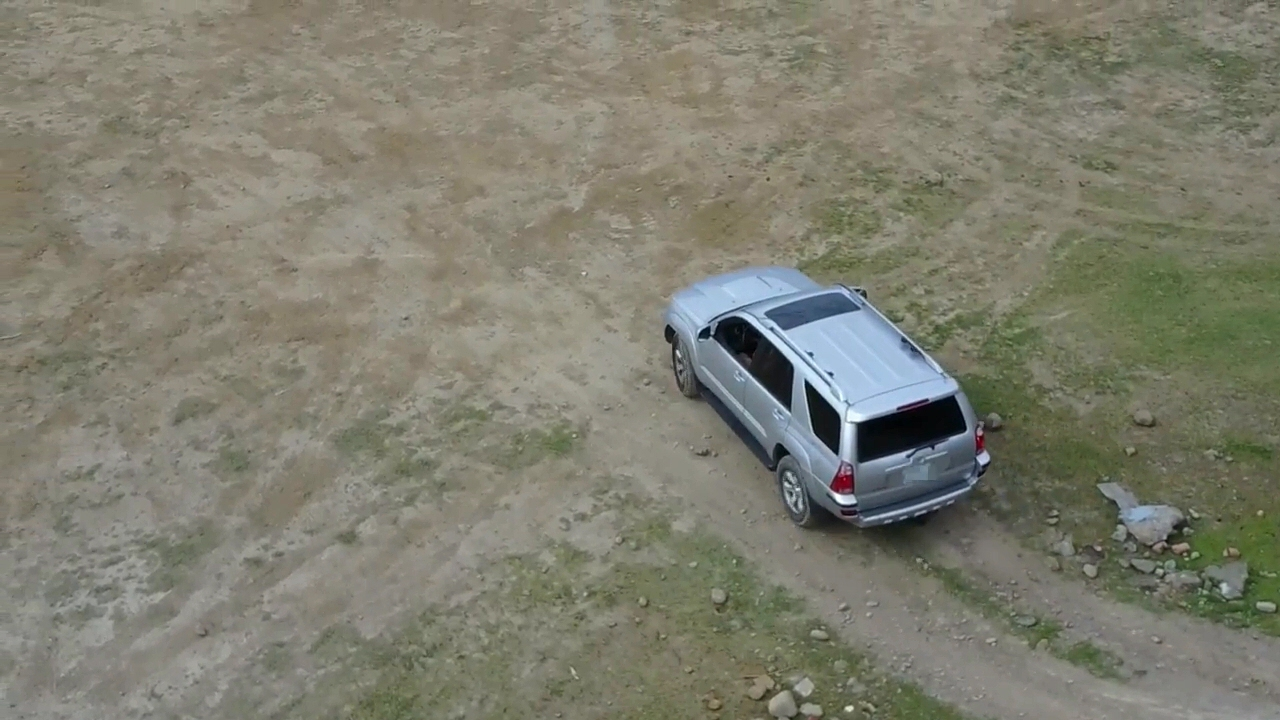araba: (663, 265, 993, 529)
